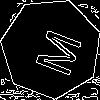M: (26, 23, 83, 79)
